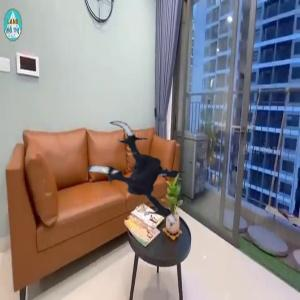drone: (72, 116, 196, 240)
